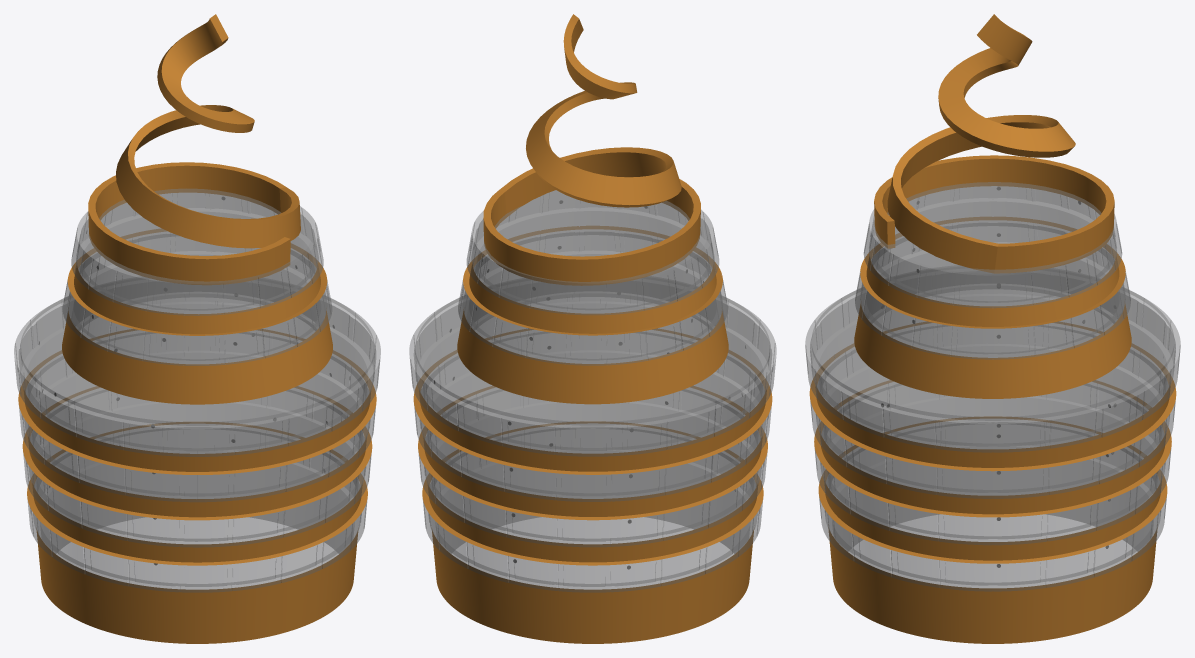
Rendered from st-james-centre-v4.gltf.
3 renders of one model, left to right at view 1: azimuth 30°, elevation 25°; view 2: azimuth 150°, elevation 25°; view 3: azimuth 270°, elevation 25°, orthographic. The views are drawn at different scales.
Visible parts, largest first — view 1: St James Centre - Main Body.stl#1, St James Centre; view 2: St James Centre - Main Body.stl#1, St James Centre; view 3: St James Centre - Main Body.stl#1, St James Centre.
Part boxes in pixels (x1,y1,x2,y2): St James Centre - Main Body.stl#1: [14, 188, 380, 643]; St James Centre: [88, 14, 300, 285]; St James Centre - Main Body.stl#1: [409, 190, 776, 643]; St James Centre: [483, 14, 700, 285]; St James Centre - Main Body.stl#1: [805, 182, 1180, 643]; St James Centre: [874, 14, 1114, 273].
Bounding box in the file's own units: 0.176 × 0.2957 × 0.176.
